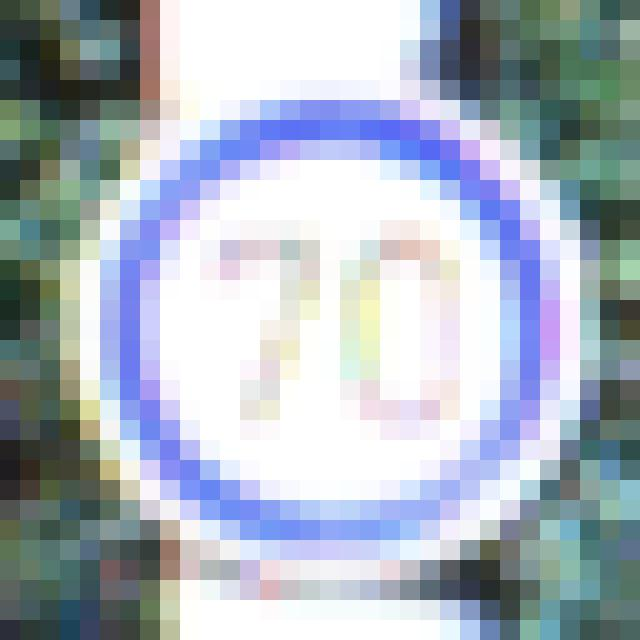SPEED LIMIT 70: (81, 109, 581, 574)
